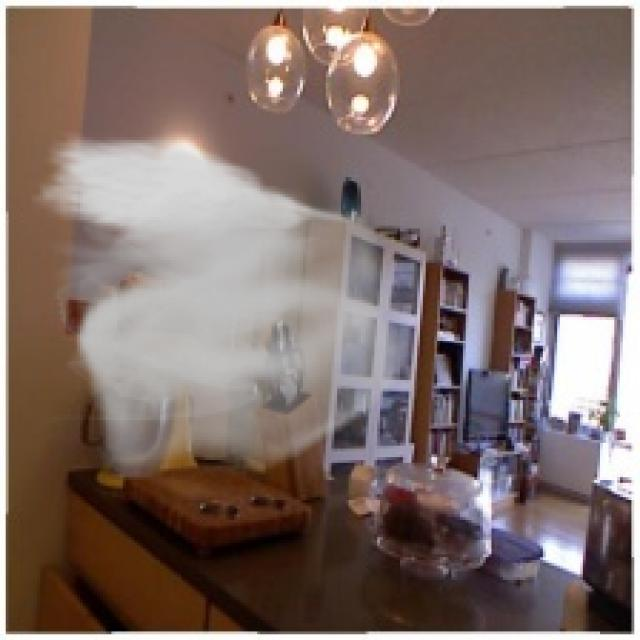smoke: (32, 131, 414, 480)
